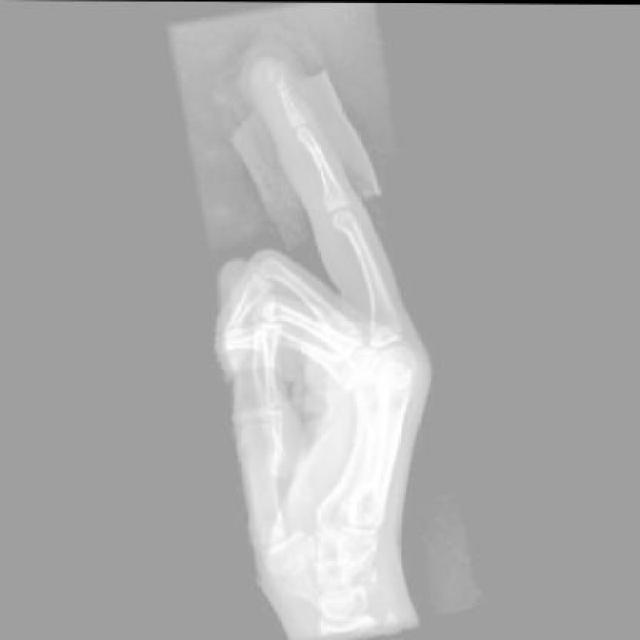Fracture: (262, 60, 291, 93)
